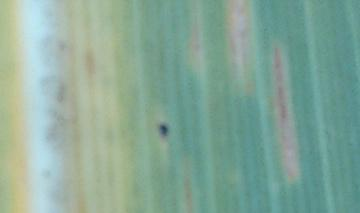tarspot: (157, 121, 169, 139)
